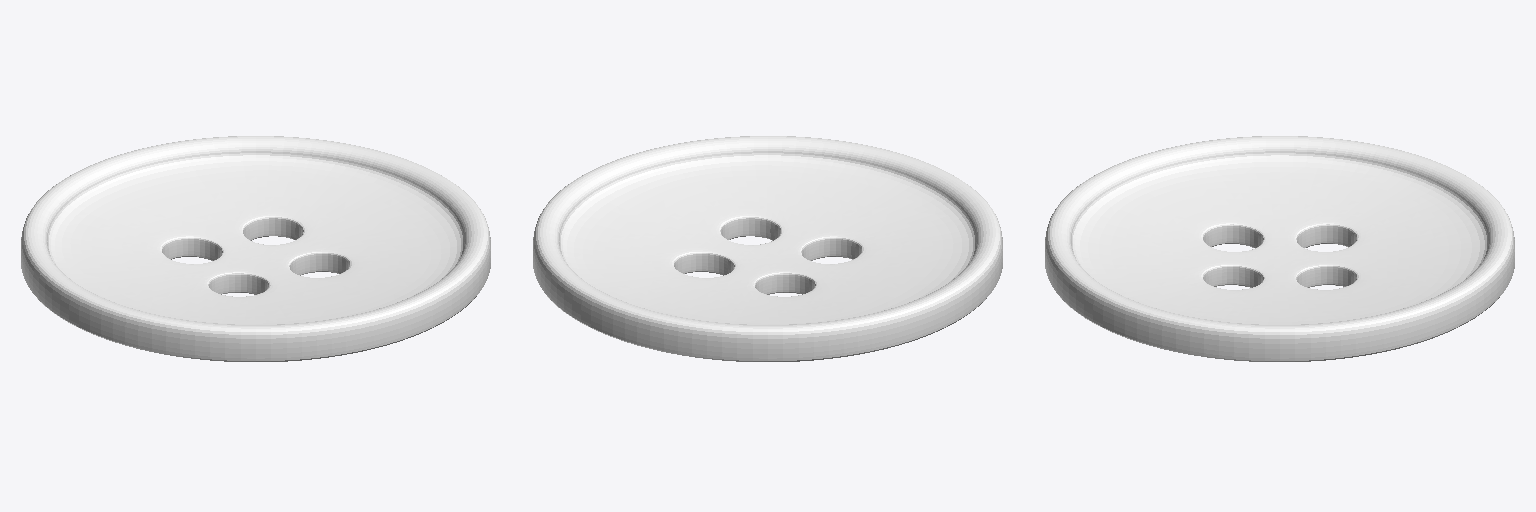
Rendered from button.obj.
The picture shows the model from 3 angles: view 1: azimuth 30°, elevation 25°; view 2: azimuth 150°, elevation 25°; view 3: azimuth 270°, elevation 25°; orthographic projection.
Parts seen in each view (by area): view 1: button; view 2: button; view 3: button.
Part boxes in pixels (bbox=[...]): button: bbox=[21, 136, 490, 361]; button: bbox=[533, 136, 1002, 361]; button: bbox=[1045, 136, 1514, 361].
Bounding box in the file's own units: 0.0197 × 0.0022 × 0.0197.